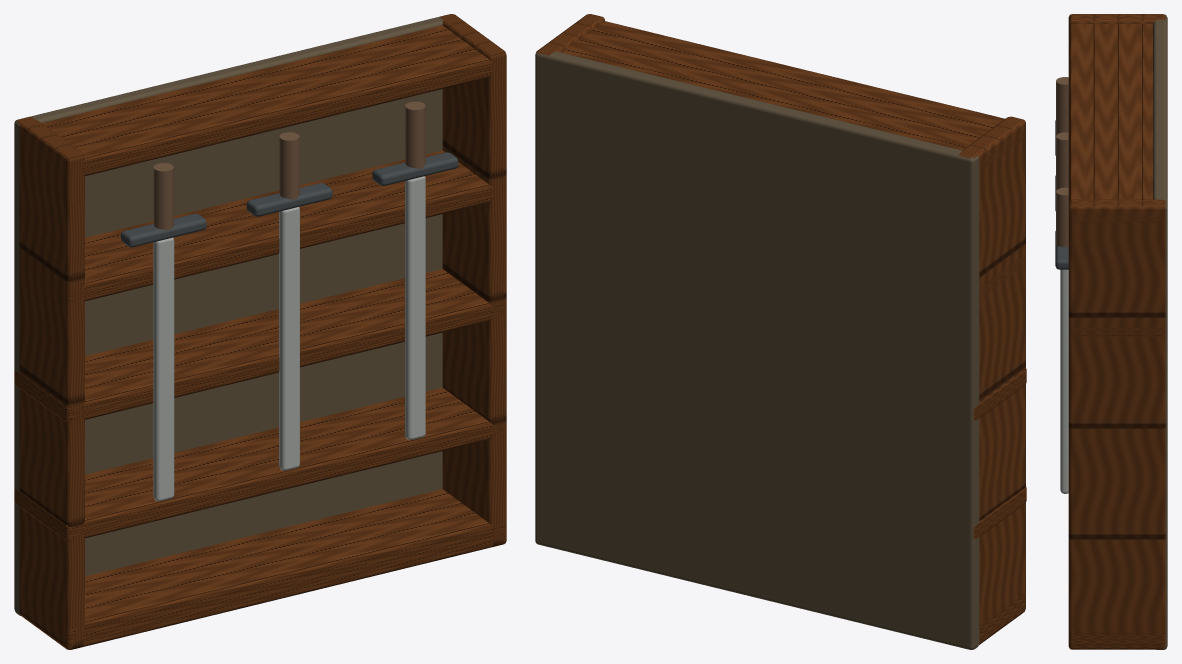
File: undercity-sewers-and-thieves-den-den-weapon-rack-78808b62__27250.glb
The picture shows the model from 3 angles, left to right: view 1: azimuth 30°, elevation 25°; view 2: azimuth 150°, elevation 25°; view 3: azimuth 270°, elevation 25°; orthographic projection. The views are drawn at different scales.
Visible parts, largest first — view 1: den-weapon-rack; view 2: den-weapon-rack; view 3: den-weapon-rack.
Boxes of the visible parts, box(x1,y1,x2,y2) form: den-weapon-rack: box(14, 14, 506, 649); den-weapon-rack: box(535, 14, 1026, 649); den-weapon-rack: box(1055, 14, 1167, 649).
Size of the model in its own units: 1.4 by 1.5 by 0.3425.
5 materials, 1 textured.
